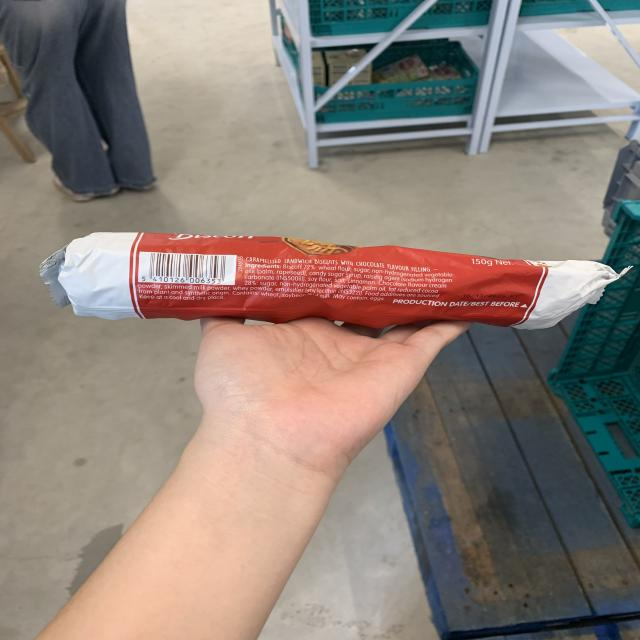object_name: (38, 237, 614, 330)
